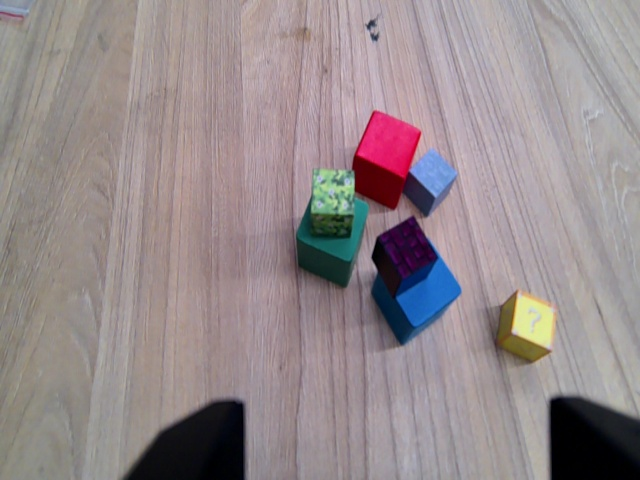brick: (371, 211, 440, 300)
grass: (306, 166, 357, 237)
lucky: (494, 282, 559, 366)
stone: (401, 143, 458, 219)
